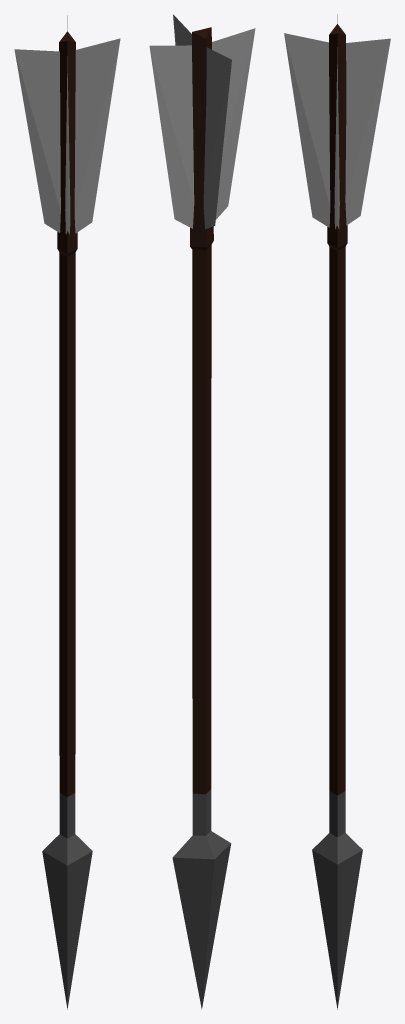
File: PT_Medieval_Arrow_03.fbx
The picture shows the model from 3 angles, left to right: view 1: azimuth 90°, elevation 25°; view 2: azimuth 210°, elevation 25°; view 3: azimuth 270°, elevation 25°; orthographic projection.
Visible parts, largest first — view 1: Arrow; view 2: Arrow; view 3: Arrow.
Boxes of the visible parts, left/top/right/bottom form: Arrow: left=14, top=15, right=120, bottom=1009; Arrow: left=149, top=14, right=255, bottom=1009; Arrow: left=284, top=14, right=390, bottom=1009.
Size of the model in its own units: 10.28 by 90.76 by 8.96.
